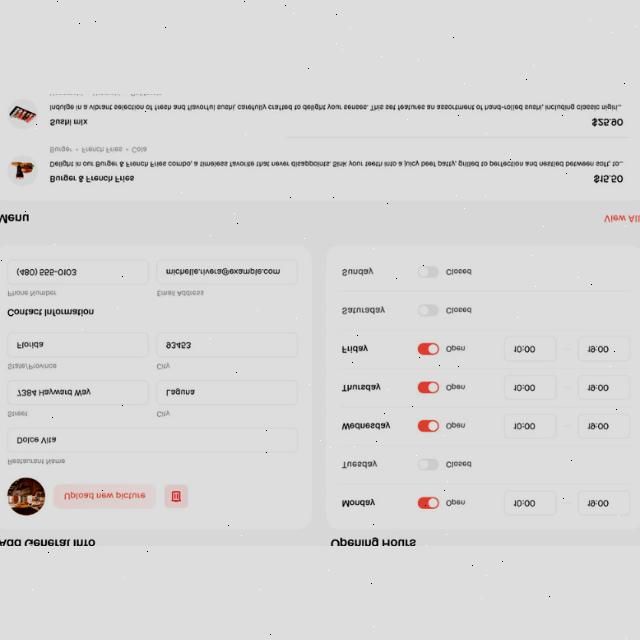QLabel: (50, 161, 622, 167), (50, 104, 622, 110), (5, 308, 95, 318), (0, 538, 96, 546), (330, 538, 416, 546), (50, 174, 134, 182), (64, 492, 146, 500), (343, 422, 391, 430), (342, 306, 386, 314), (8, 459, 66, 465), (8, 364, 56, 371), (604, 214, 640, 223), (342, 383, 380, 391), (342, 460, 378, 468), (8, 290, 56, 296), (49, 118, 89, 125), (158, 290, 204, 296), (343, 499, 375, 507), (592, 118, 624, 126), (0, 214, 28, 223), (342, 268, 373, 276), (82, 146, 121, 152), (594, 175, 622, 183), (342, 345, 368, 353), (446, 306, 472, 314), (446, 268, 472, 276), (446, 422, 466, 430), (446, 344, 466, 352), (446, 461, 472, 467), (446, 499, 466, 506), (446, 384, 466, 391), (50, 146, 72, 152), (8, 411, 28, 417), (156, 362, 170, 370), (132, 146, 146, 152), (156, 411, 170, 417), (49, 94, 82, 96), (131, 94, 161, 96), (93, 94, 121, 96)
VBtn: (54, 486, 156, 508)
VCard: (326, 244, 640, 528), (0, 246, 310, 530), (0, 94, 640, 200), (8, 259, 148, 285), (156, 260, 298, 284)
VDivider: (288, 136, 630, 138), (339, 290, 631, 292), (339, 329, 631, 331), (340, 406, 632, 408), (339, 445, 631, 447), (338, 368, 632, 369), (563, 502, 573, 504), (563, 425, 571, 427), (562, 348, 572, 349), (563, 387, 571, 388), (340, 484, 630, 484)
VIcon: (171, 491, 181, 502)
VImg: (7, 478, 45, 516), (7, 156, 38, 187), (8, 98, 38, 130)
VSwitch: (417, 342, 439, 356), (418, 497, 440, 509), (417, 381, 439, 393), (418, 458, 439, 470), (418, 420, 438, 432), (418, 304, 438, 316), (418, 266, 438, 278)
VTextField: (8, 428, 298, 452), (156, 380, 298, 406), (156, 332, 298, 358), (8, 332, 148, 358), (8, 380, 148, 404), (504, 374, 556, 400), (578, 374, 630, 400), (504, 336, 556, 362), (578, 336, 630, 362), (504, 491, 556, 515), (578, 491, 630, 515), (504, 414, 556, 438), (578, 414, 630, 438)
